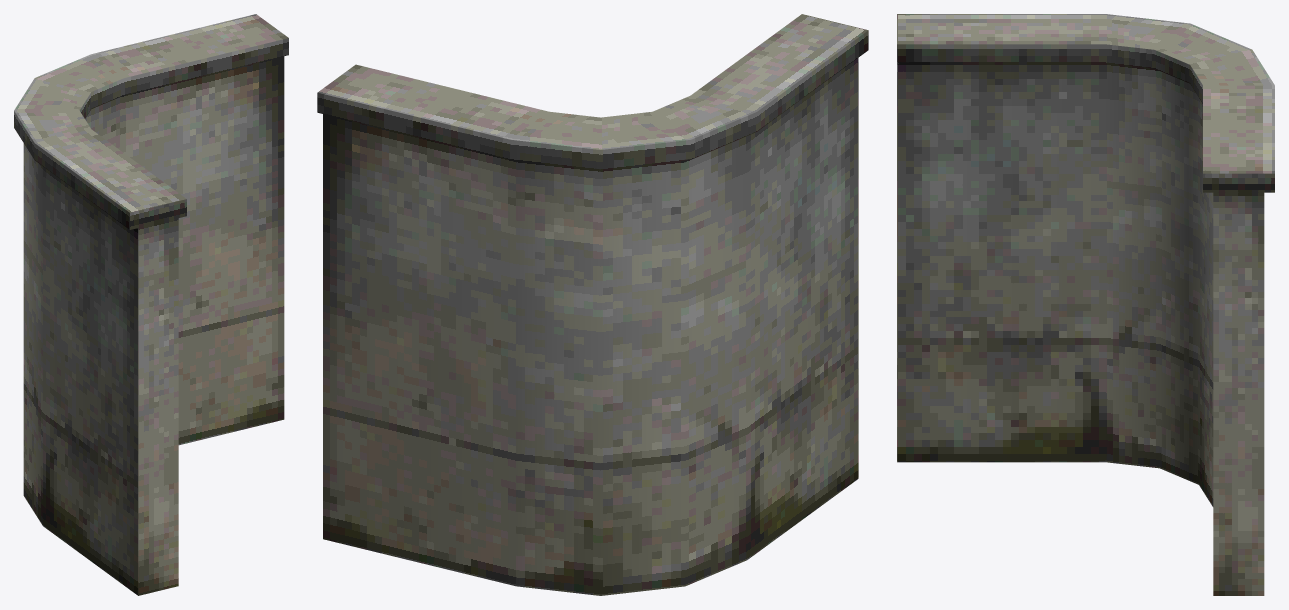
Rendered from wall_corner_2.glb.
3 views of the same model, side by side, from view 1: azimuth 30°, elevation 25°; view 2: azimuth 150°, elevation 25°; view 3: azimuth 270°, elevation 25° (orthographic). The views are drawn at different scales.
Visible parts, largest first — view 1: Wall_corner_2; view 2: Wall_corner_2; view 3: Wall_corner_2.
Boxes of the visible parts, x1,y1,x2,y2 form: Wall_corner_2: (14, 14, 288, 595); Wall_corner_2: (317, 14, 868, 595); Wall_corner_2: (897, 14, 1274, 595).
Size of the model in its own units: 2.43 by 2.99 by 2.43.
Materials: 1 (1 with a texture image).
